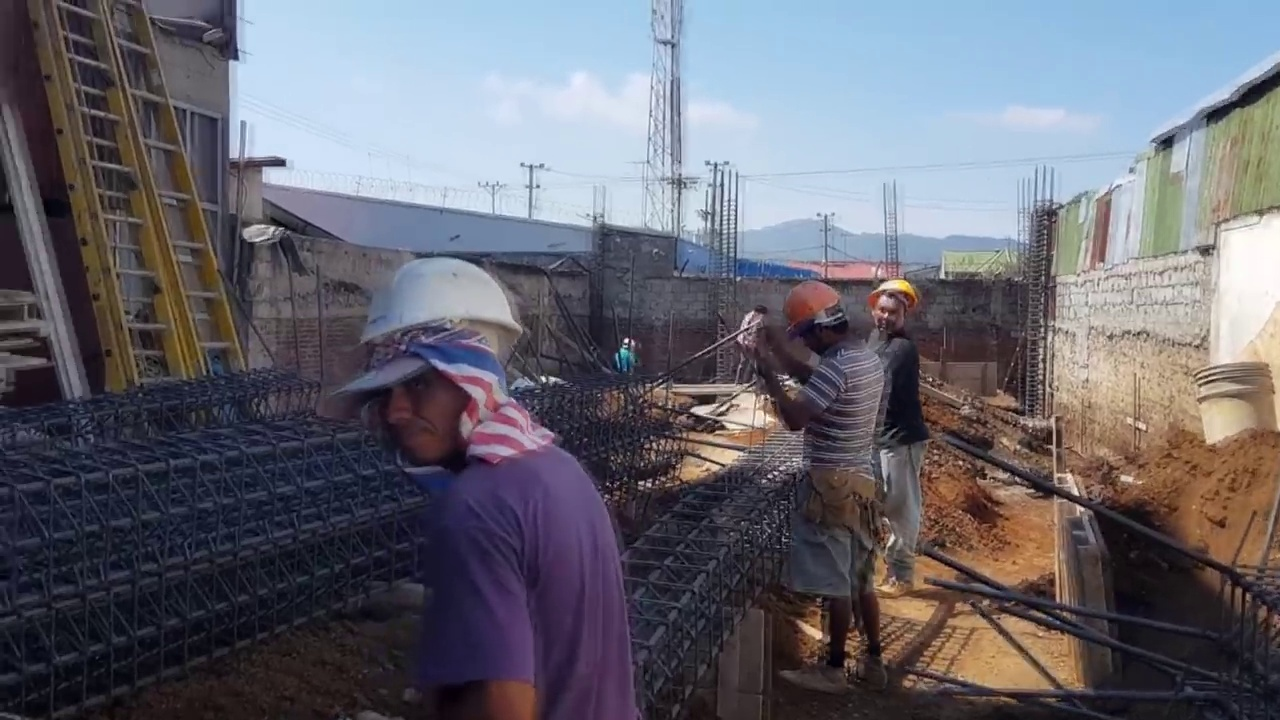helmet: (321, 251, 540, 363), (787, 284, 843, 335), (868, 280, 918, 313), (622, 337, 637, 347)
helmet-off: (754, 302, 767, 320)
helmet-on: (331, 256, 522, 465), (786, 282, 855, 358), (868, 280, 923, 334), (622, 337, 636, 351)
person: (344, 245, 646, 716), (758, 282, 883, 700), (864, 277, 933, 578), (738, 303, 772, 387), (614, 337, 643, 379)
